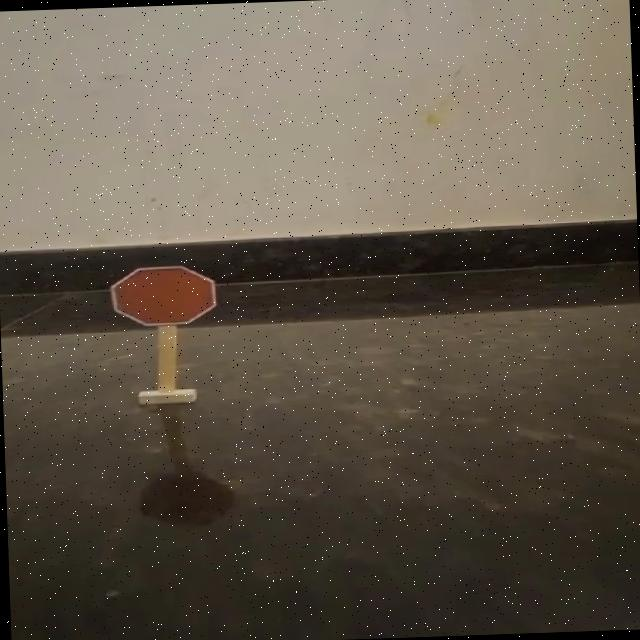Stop: (92, 255, 234, 337)
